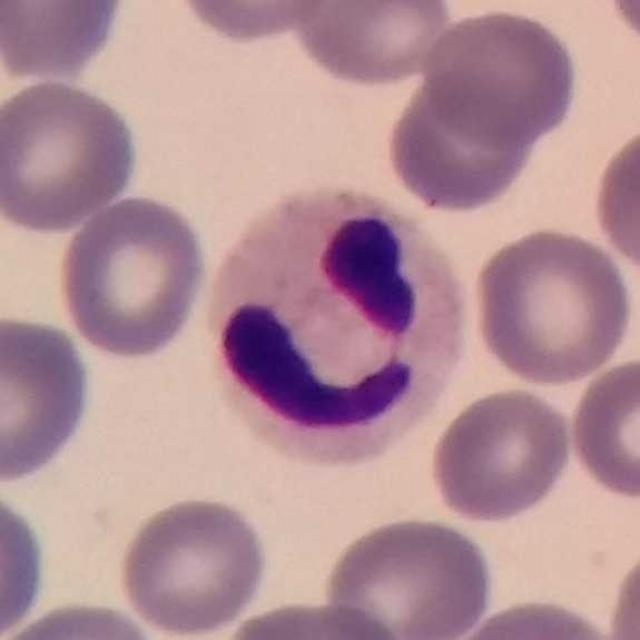Neutrophil: (196, 178, 481, 464)
RBC: (468, 222, 636, 388), (52, 190, 212, 362), (380, 68, 540, 217), (418, 4, 582, 148), (114, 492, 272, 639), (0, 75, 144, 236), (317, 512, 498, 639), (426, 384, 577, 525), (0, 310, 97, 488), (288, 0, 456, 89), (565, 354, 640, 504), (0, 0, 132, 83), (438, 594, 624, 640), (589, 119, 640, 286), (218, 596, 410, 640), (0, 483, 51, 640), (169, 0, 340, 46), (1, 596, 162, 640), (603, 535, 640, 640), (600, 0, 640, 52)
